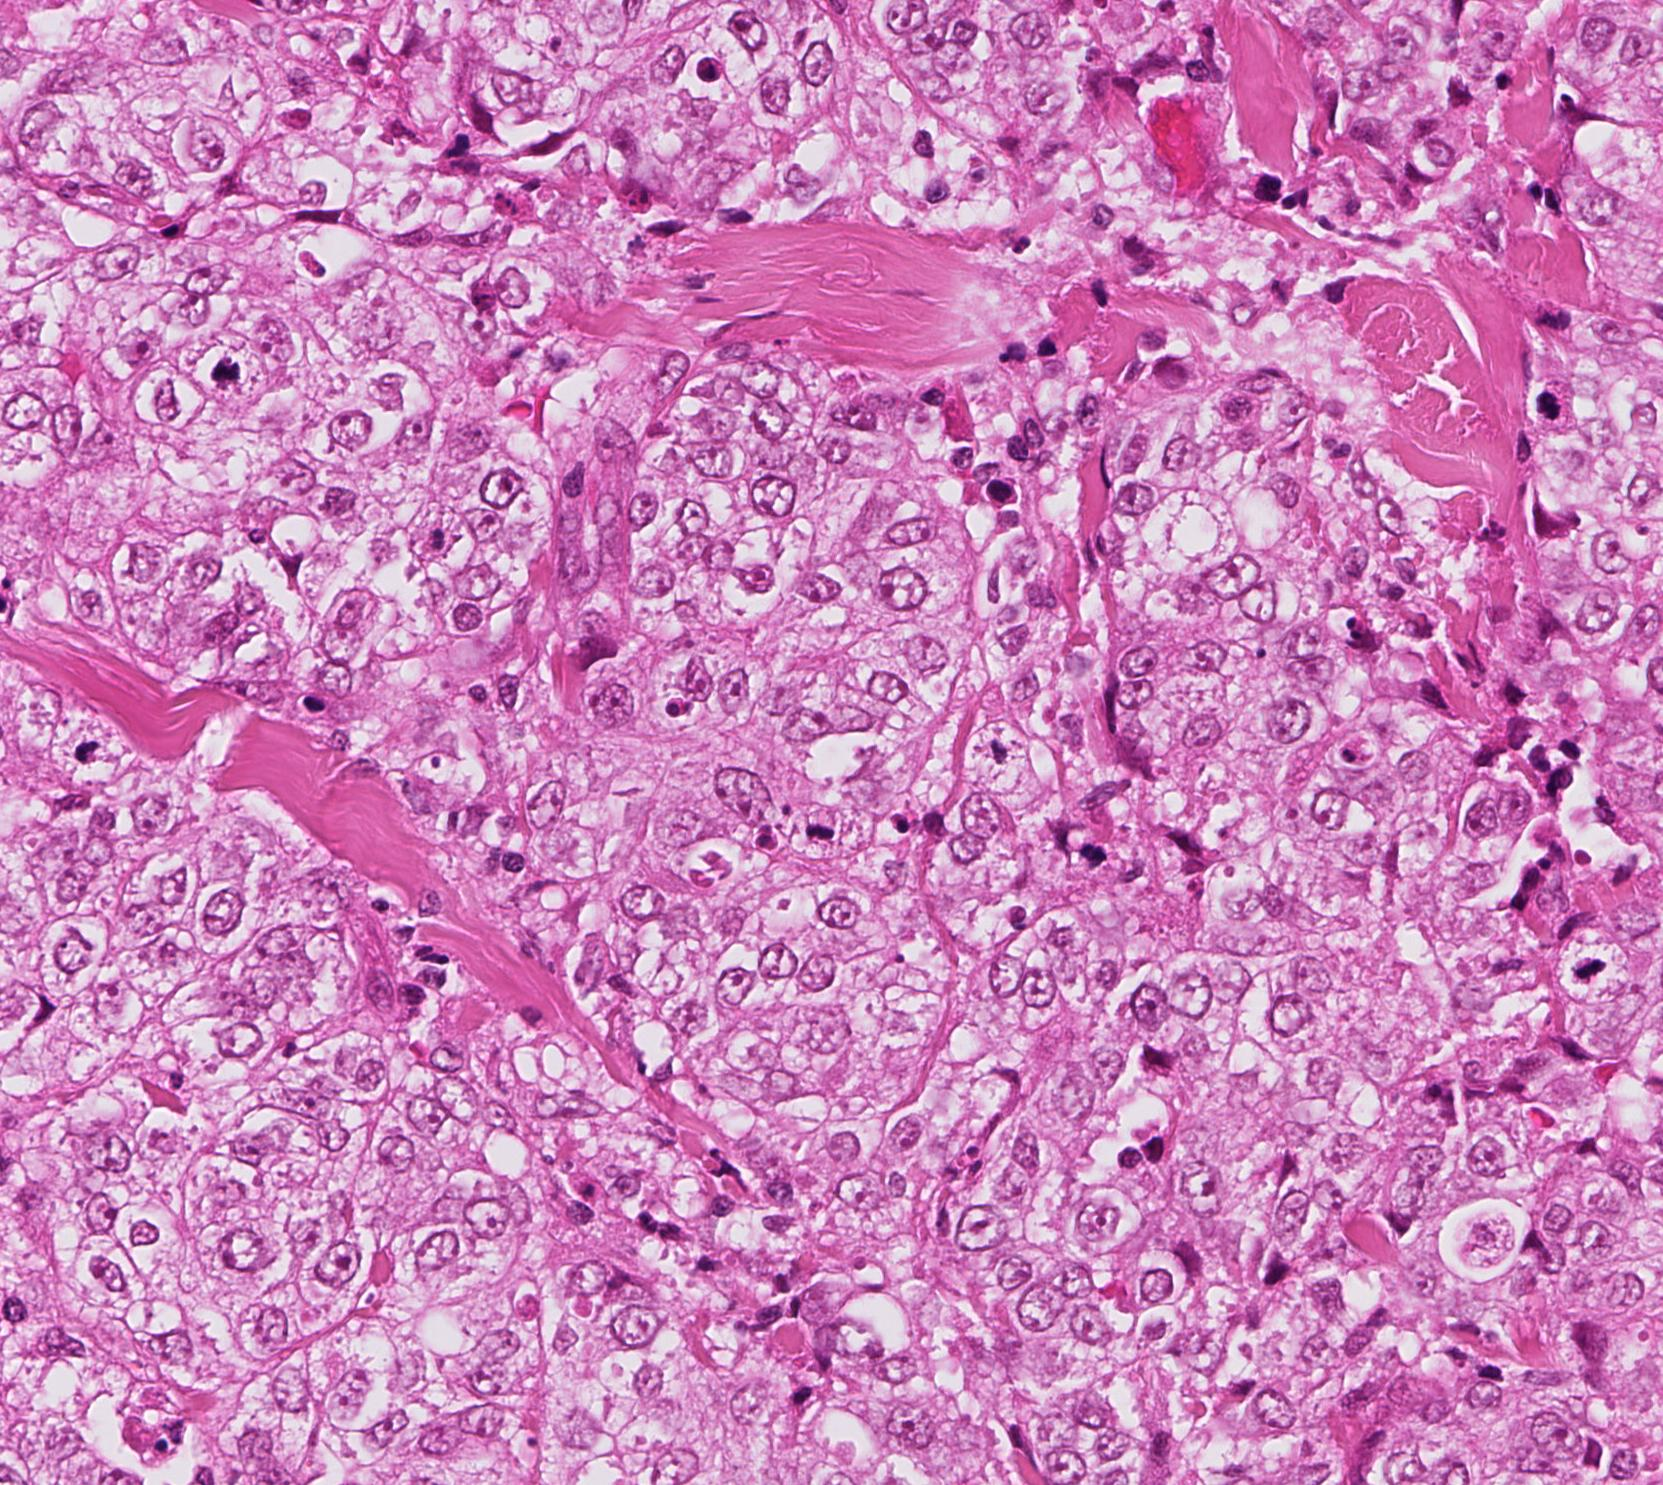mitosis: (786, 803, 846, 863)
